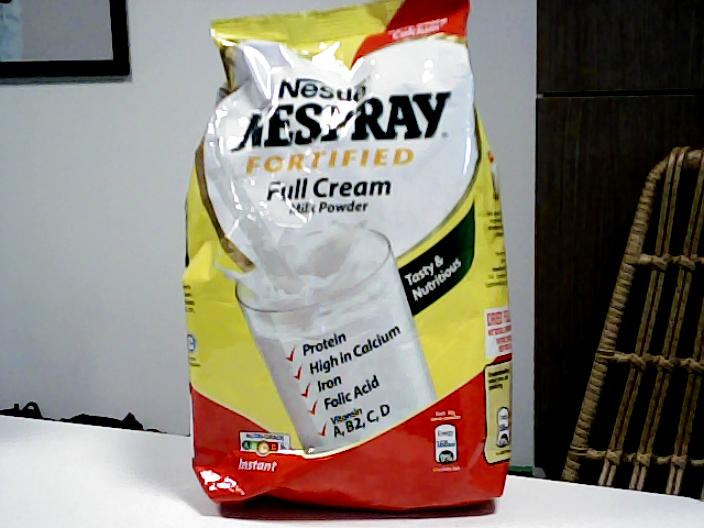Adult_Milk_600-699g_Halal_NonHealthy: (184, 1, 512, 512)
